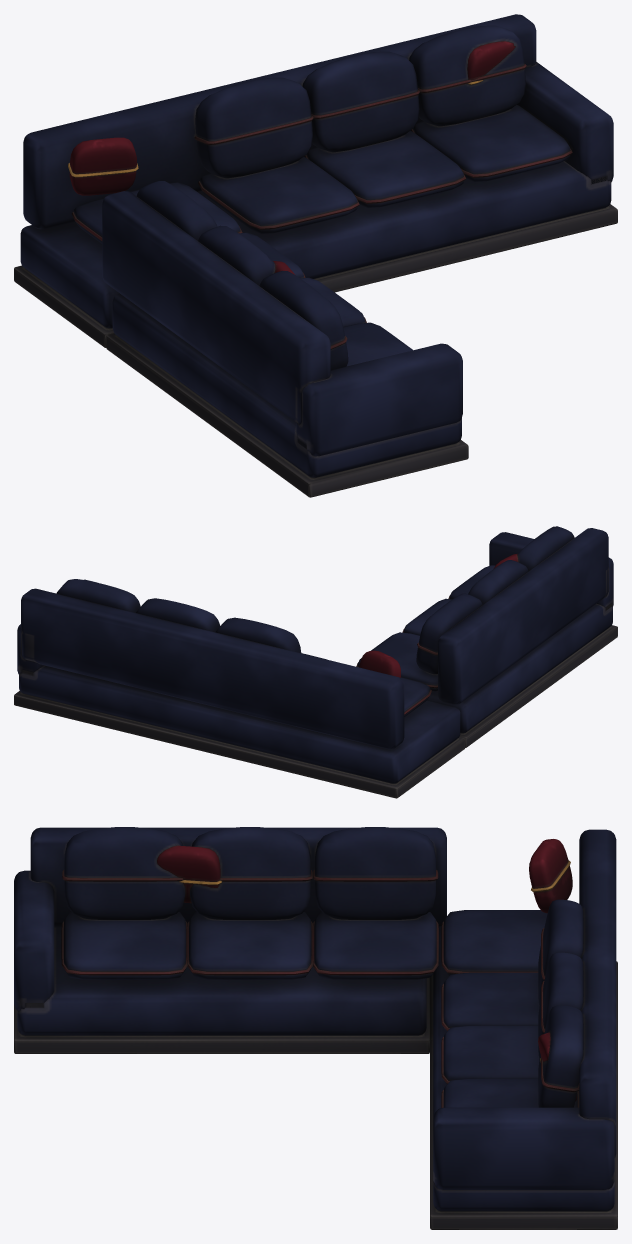
The model's file is CornerSectional.fbx.
3 renders of one model, top to bottom at view 1: azimuth 30°, elevation 25°; view 2: azimuth 150°, elevation 25°; view 3: azimuth 270°, elevation 25°, orthographic. The views are drawn at different scales.
Visible parts, largest first — view 1: CornerSectional; view 2: CornerSectional; view 3: CornerSectional.
Boxes of the visible parts, x1,y1,x2,y2 form: CornerSectional: (14,14,617,497); CornerSectional: (14,526,617,798); CornerSectional: (14,827,617,1229).
Size of the model in its own units: 900 by 277 by 900.
